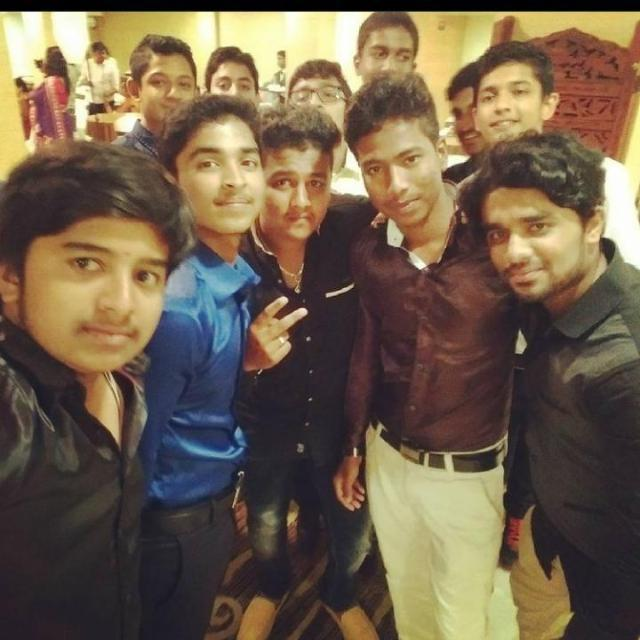person: (0, 135, 180, 639), (350, 63, 496, 622), (480, 131, 640, 639), (250, 105, 352, 531), (176, 108, 256, 516), (0, 639, 180, 640), (480, 639, 639, 640)
